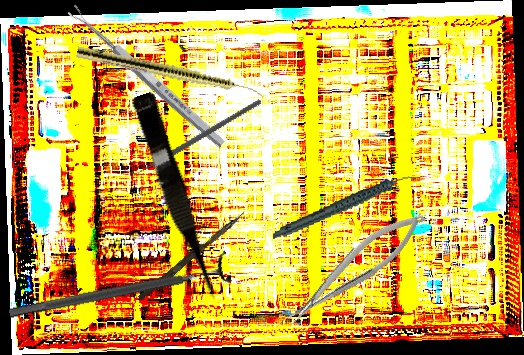Chopper: (122, 58, 263, 214)
Fixation Ring: (5, 249, 233, 330)
Handpiece: (266, 173, 423, 240), (75, 45, 266, 100)
Micro Scissor: (126, 90, 225, 306)
Needle Holder: (276, 202, 435, 332)
Pusher: (137, 207, 246, 304)
Surgical Spoon: (66, 3, 228, 150)
